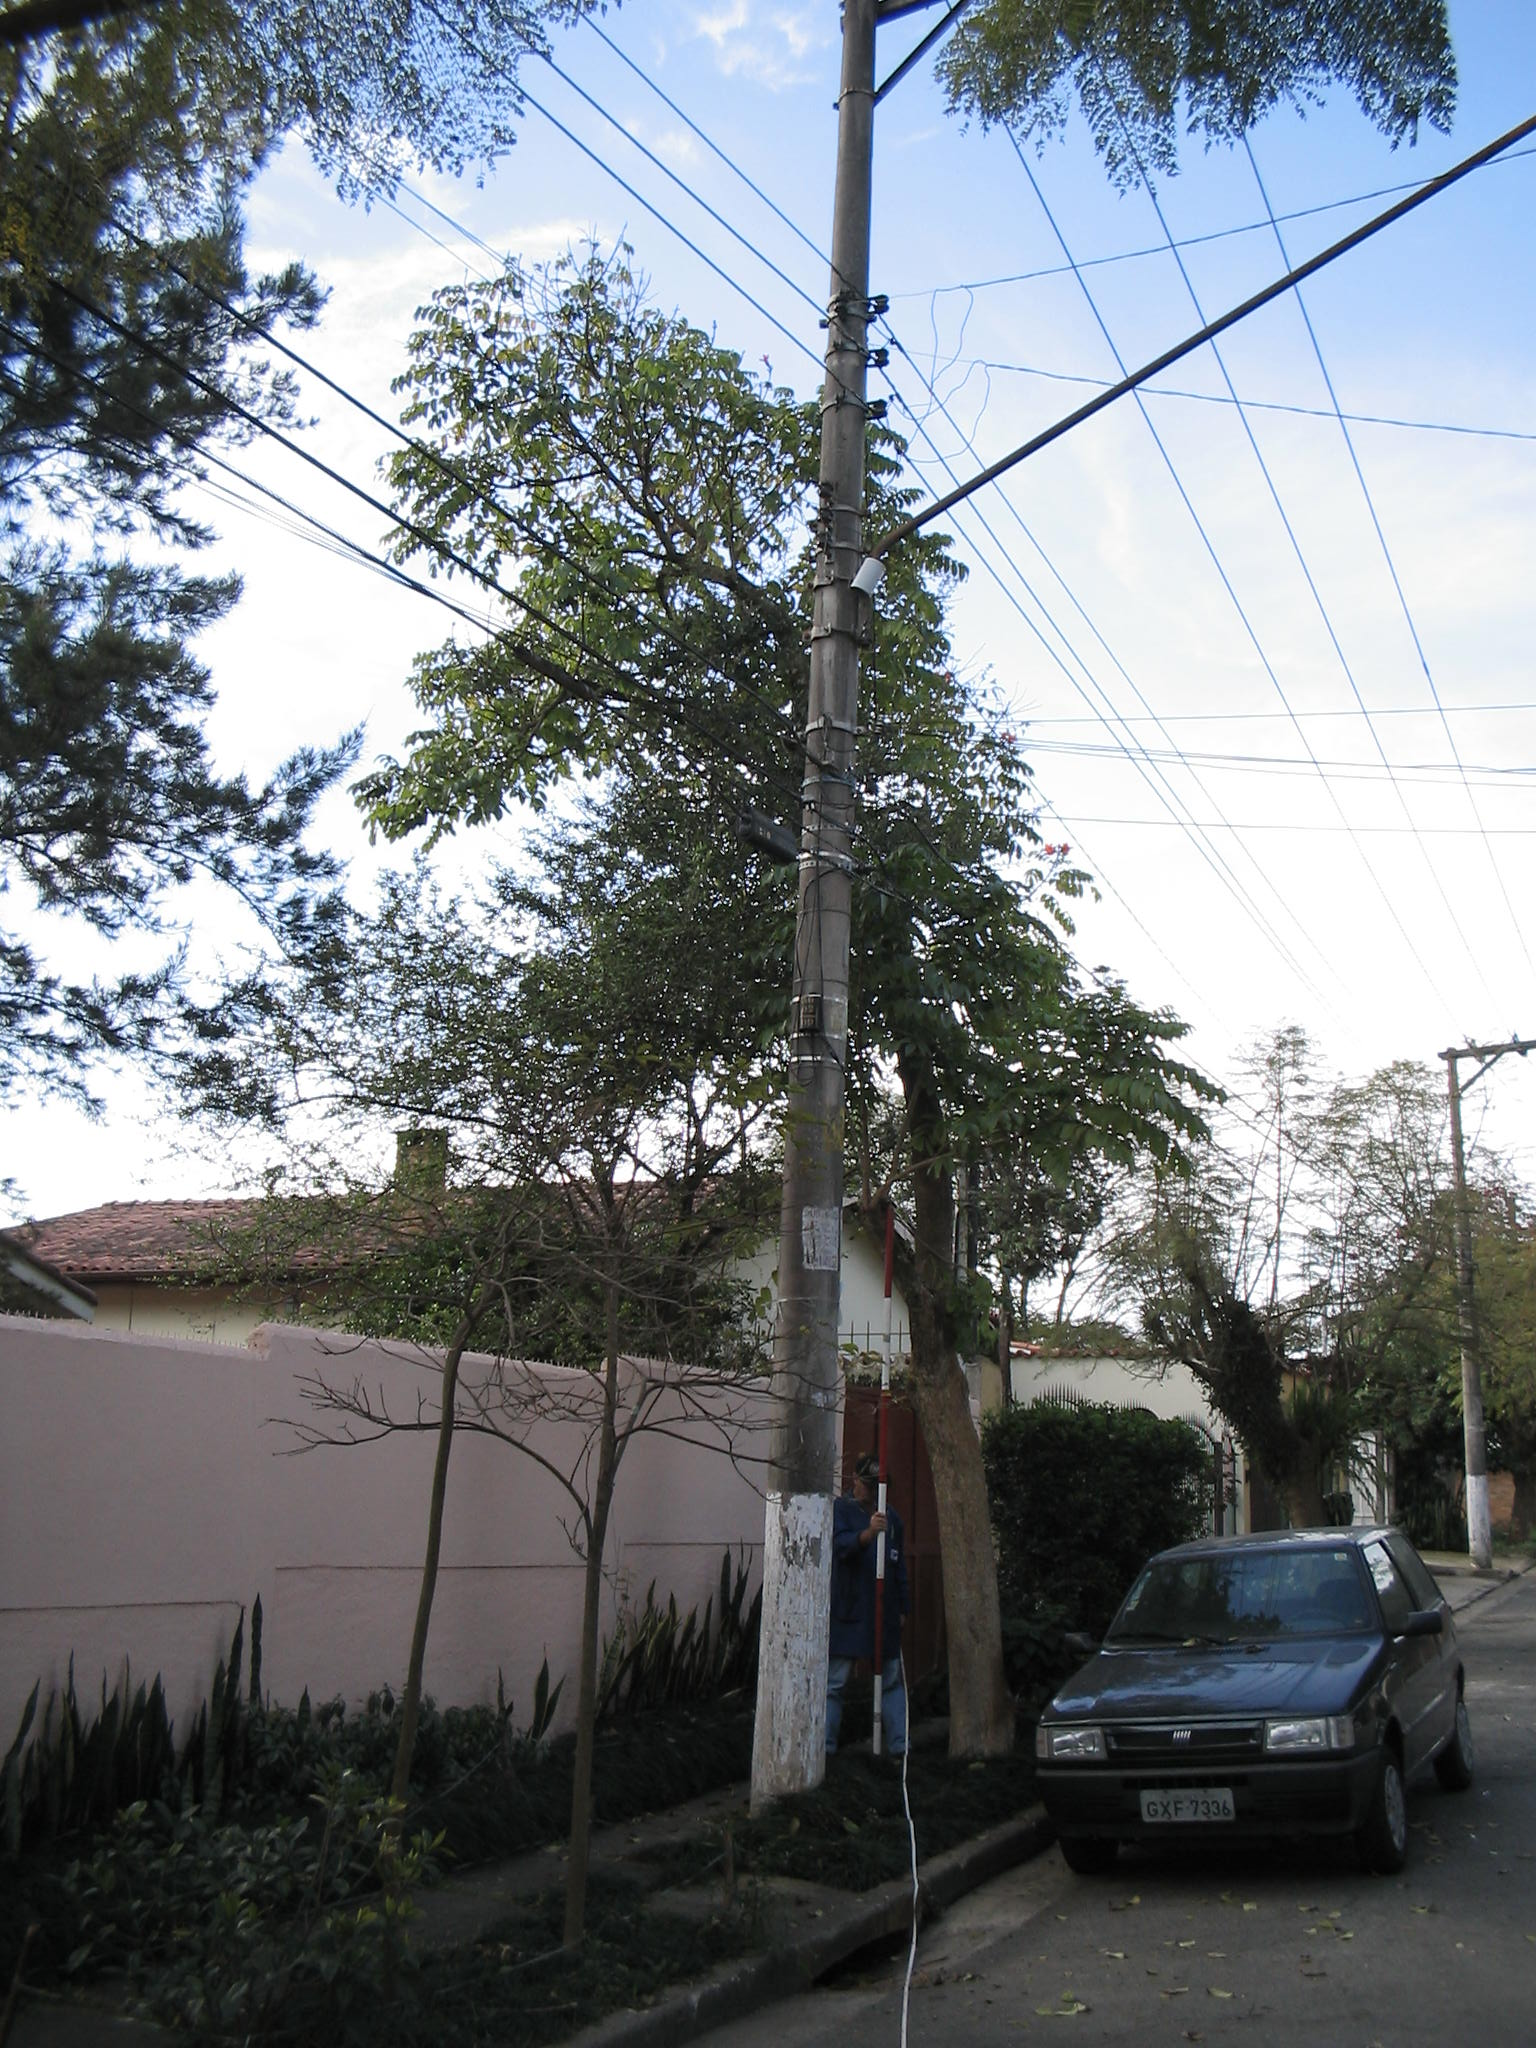crown: (369, 245, 1215, 1276)
stem: (900, 1300, 1058, 1753)
stick: (841, 1200, 921, 1751)
tree: (360, 245, 1225, 1763), (282, 1192, 842, 1954), (1129, 1118, 1457, 1537)
